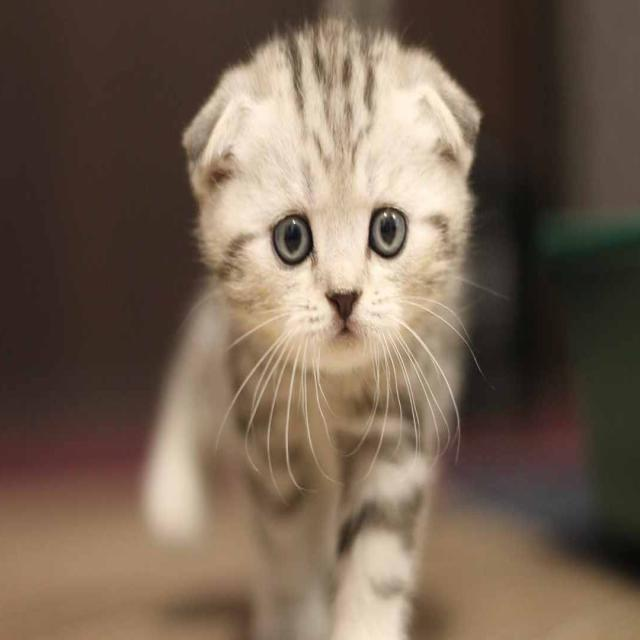Scottish Fold: (138, 9, 486, 640)
